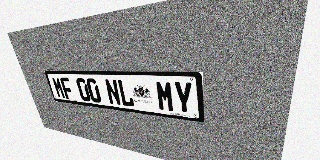0: (85, 78, 102, 103), (75, 78, 91, 102)
F: (59, 77, 75, 100)
L: (117, 79, 135, 107)
M: (155, 81, 175, 112), (51, 77, 66, 99)
N: (104, 79, 122, 106)
Y: (173, 81, 194, 115)
